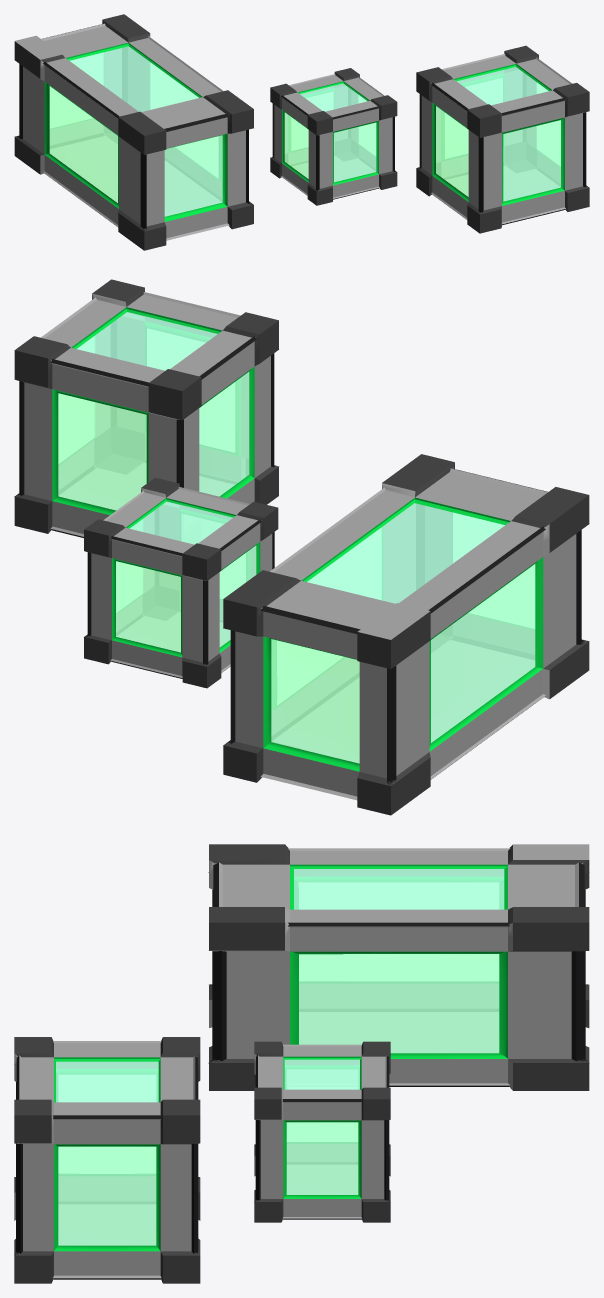
File: boxes.fbx
3 renders of one model, top to bottom at view 1: azimuth 30°, elevation 25°; view 2: azimuth 150°, elevation 25°; view 3: azimuth 270°, elevation 25°, orthographic. The views are drawn at different scales.
Parts seen in each view (by area): view 1: pCube3, pCube2, pCube1; view 2: pCube3, pCube2, pCube1; view 3: pCube3, pCube2, pCube1.
Boxes of the visible parts, x1,y1,x2,y2 form: pCube3: [14, 14, 253, 250]; pCube2: [416, 45, 589, 233]; pCube1: [270, 68, 397, 205]; pCube3: [223, 454, 589, 815]; pCube2: [14, 279, 279, 537]; pCube1: [84, 477, 278, 688]; pCube3: [208, 844, 589, 1090]; pCube2: [14, 1037, 200, 1283]; pCube1: [254, 1041, 390, 1222].
Bounding box in the file's own units: 4.93 × 1.58 × 4.42.
